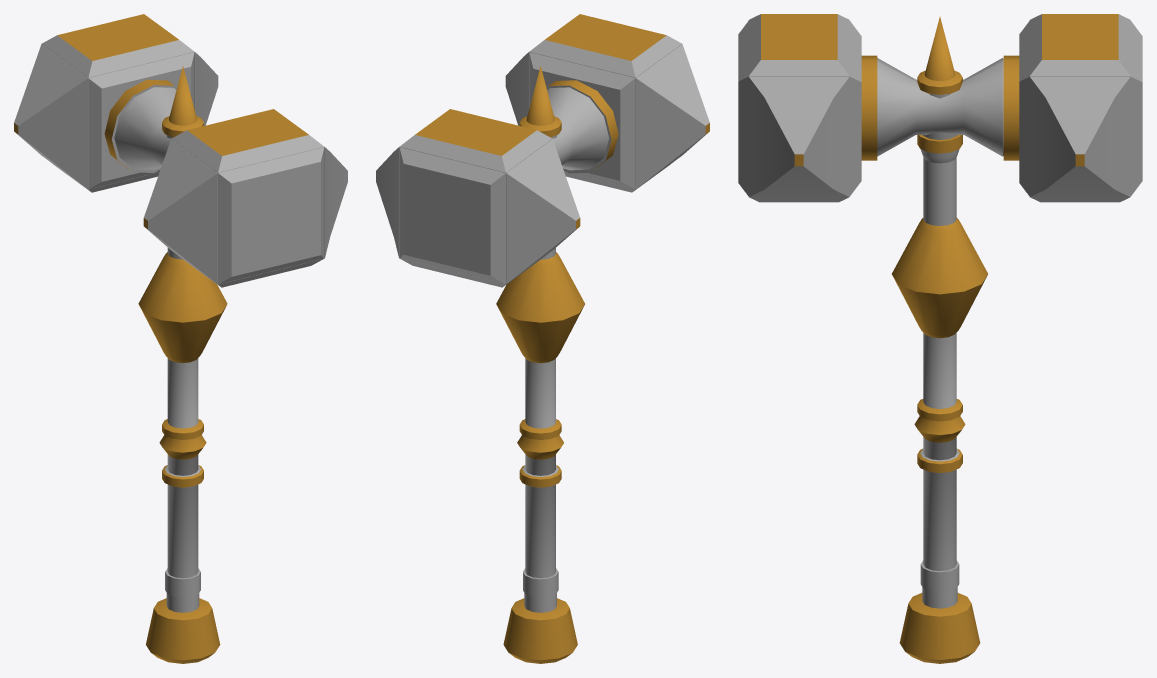
The picture shows the model from 3 angles, left to right: view 1: azimuth 30°, elevation 25°; view 2: azimuth 150°, elevation 25°; view 3: azimuth 270°, elevation 25°; orthographic projection. The views are drawn at different scales.
Visible parts, largest first — view 1: Cylinder.013; view 2: Cylinder.013; view 3: Cylinder.013.
Boxes of the visible parts, <box> form: Cylinder.013: <box>14,14,347,663</box>; Cylinder.013: <box>376,14,709,663</box>; Cylinder.013: <box>738,14,1142,663</box>.
Size of the model in its own units: 250 by 704 by 404.
